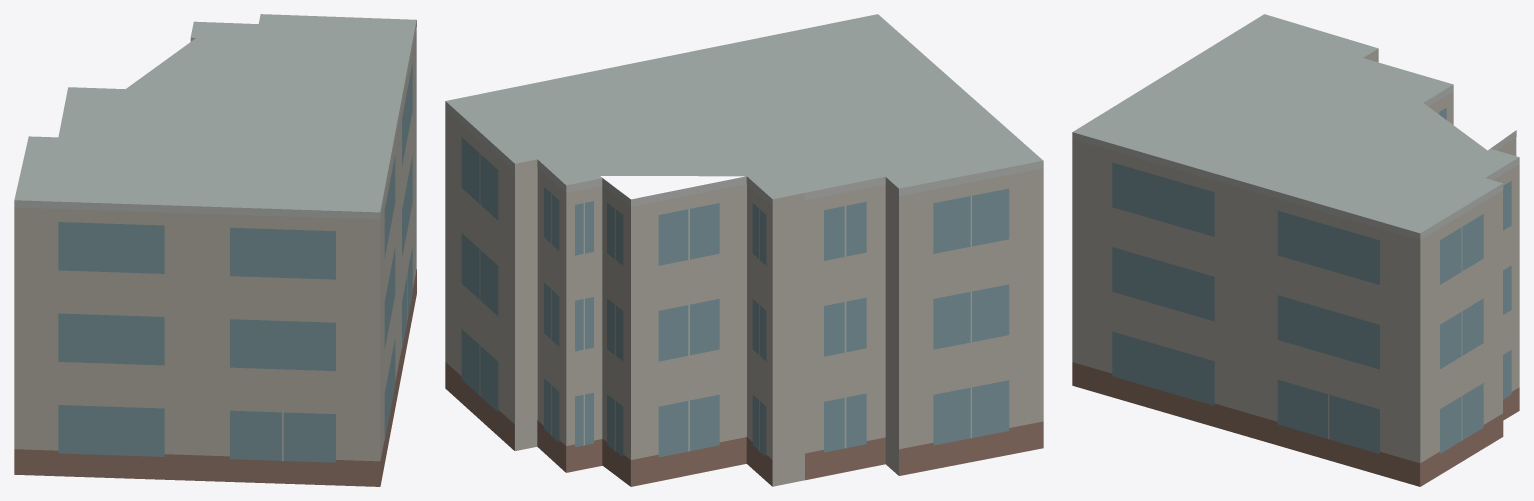
The model's file is survey-upis-32700479.glb.
3 renders of one model, left to right at view 1: azimuth 30°, elevation 25°; view 2: azimuth 150°, elevation 25°; view 3: azimuth 270°, elevation 25°, orthographic. The views are drawn at different scales.
Visible parts, largest first — view 1: survey-upis-32700479.tmp; view 2: survey-upis-32700479.tmp; view 3: survey-upis-32700479.tmp.
Part boxes in pixels (left/top/right/bottom): survey-upis-32700479.tmp: left=14, top=14, right=416, bottom=486; survey-upis-32700479.tmp: left=445, top=14, right=1043, bottom=486; survey-upis-32700479.tmp: left=1072, top=14, right=1519, bottom=486.
Size of the model in its own units: 16.99 by 9.15 by 14.64.
